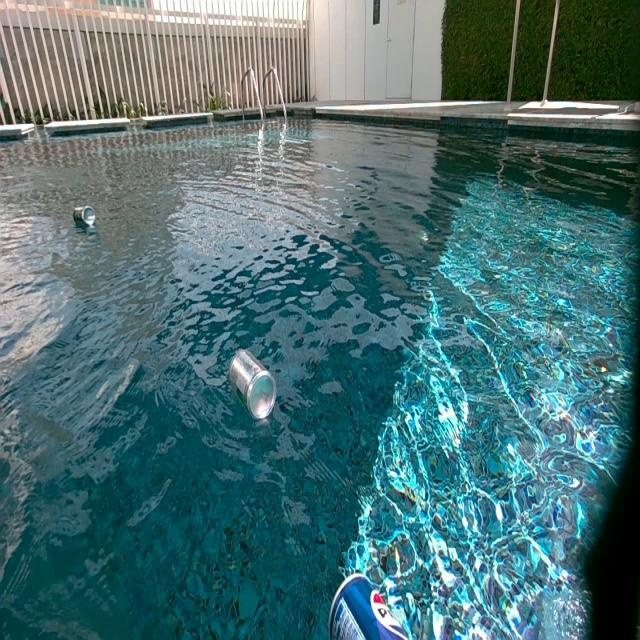Cans: (324, 572, 431, 636), (228, 348, 277, 422), (73, 206, 95, 227)
